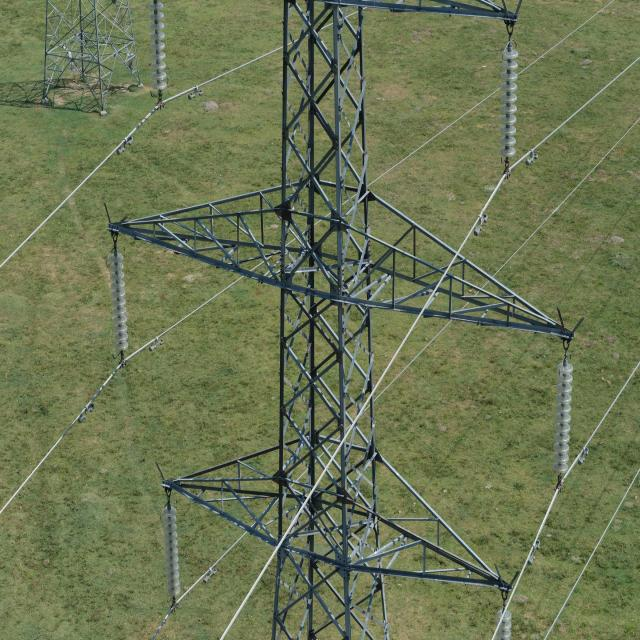direk: (270, 2, 398, 640)
